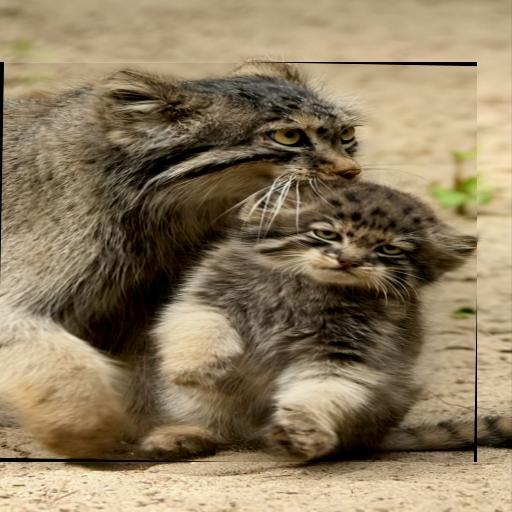manul: (0, 63, 477, 462)
